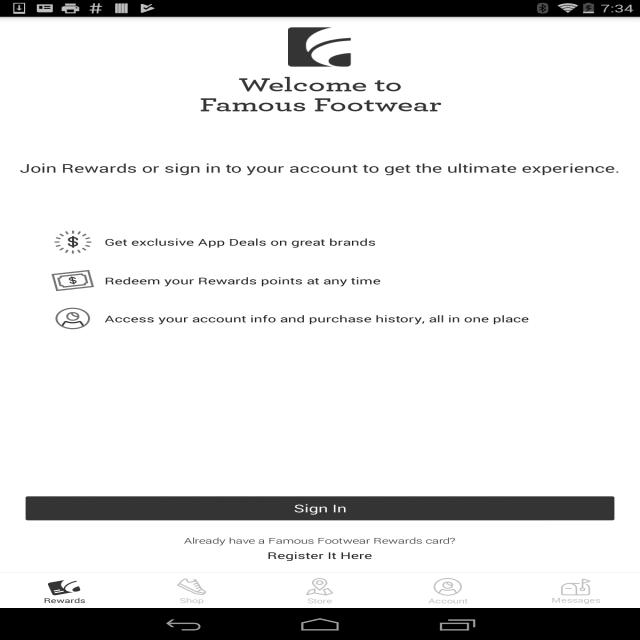Button: (21, 492, 619, 524), (250, 544, 389, 572)
ImageView: (288, 28, 352, 68), (51, 262, 95, 300), (54, 222, 92, 262), (56, 300, 90, 338), (48, 578, 80, 596), (177, 578, 207, 596), (433, 578, 462, 596), (306, 578, 334, 596), (561, 579, 591, 595)
TextView: (104, 222, 589, 262), (104, 262, 589, 300), (104, 300, 589, 338), (199, 73, 441, 116), (19, 160, 620, 176), (184, 535, 456, 546), (552, 595, 600, 605), (43, 596, 85, 605), (428, 596, 468, 605), (307, 596, 332, 605), (180, 596, 203, 605)
